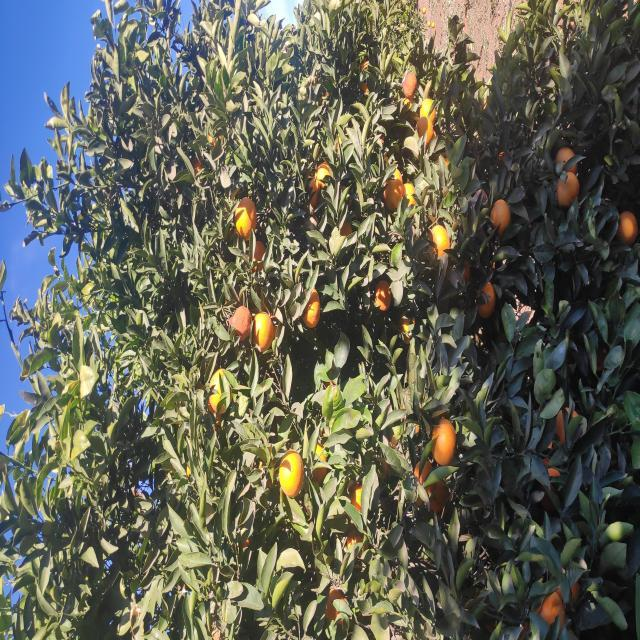Jeruk Sudah Matang: (3, 534, 50, 565), (144, 279, 192, 304), (173, 431, 220, 456), (228, 208, 272, 232), (402, 234, 444, 256), (290, 252, 328, 276), (429, 383, 474, 403), (377, 428, 415, 450), (196, 556, 234, 578), (433, 556, 467, 580), (457, 556, 494, 578), (136, 414, 180, 432), (394, 616, 430, 638), (16, 324, 54, 344), (318, 477, 359, 495), (366, 246, 402, 266), (312, 302, 352, 320), (406, 490, 440, 510), (156, 312, 198, 326), (129, 427, 161, 445), (446, 314, 480, 330), (298, 398, 332, 414), (492, 416, 522, 434), (426, 304, 464, 318), (425, 400, 458, 416), (387, 338, 419, 354), (514, 418, 542, 436), (126, 348, 157, 364), (544, 359, 580, 372), (330, 376, 360, 390), (89, 346, 112, 364), (158, 545, 178, 563), (492, 208, 508, 222), (460, 193, 482, 203), (488, 335, 503, 348)
